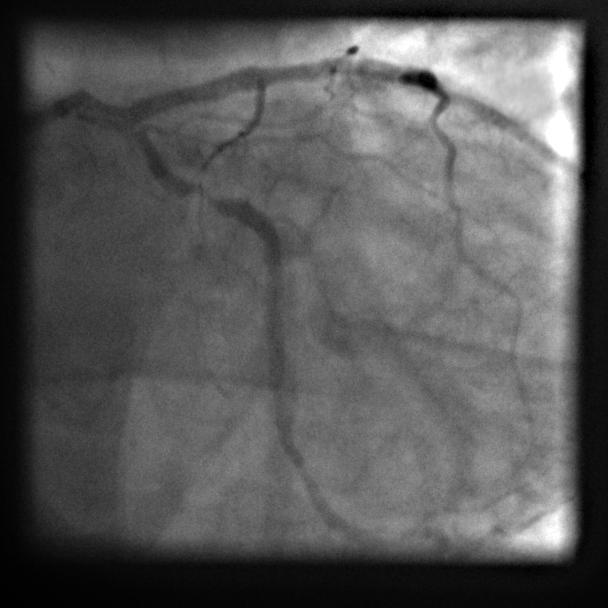Stenosis: (186, 180, 225, 206)
